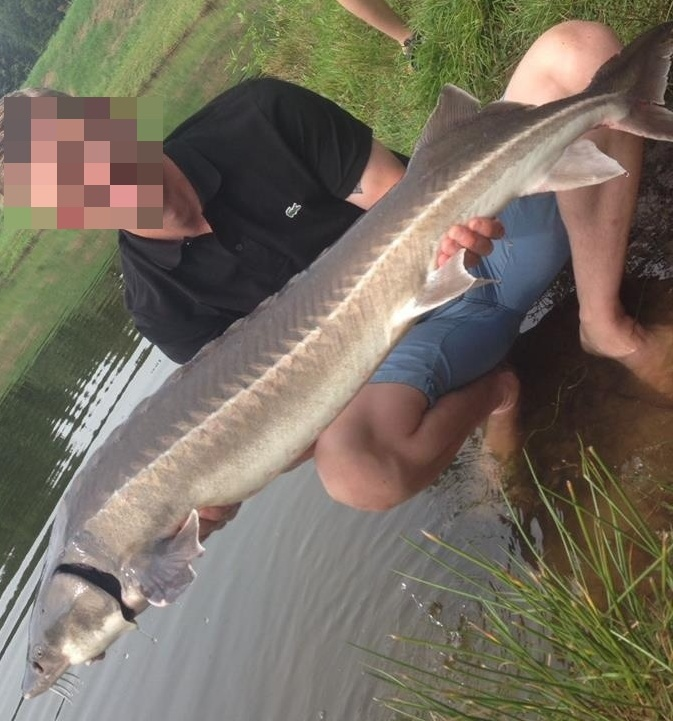Acipenseridae: (20, 20, 673, 701)
